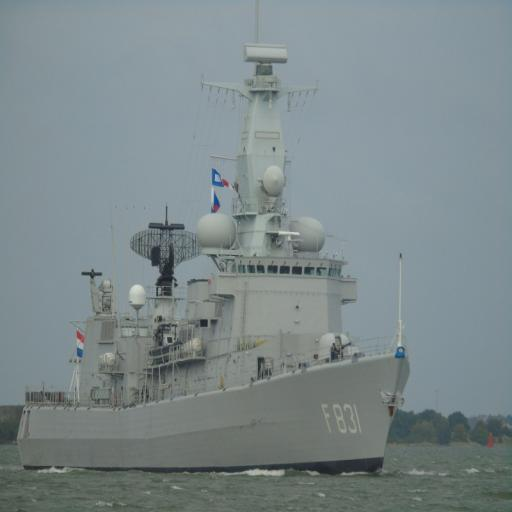Fragata: (16, 41, 416, 476)
